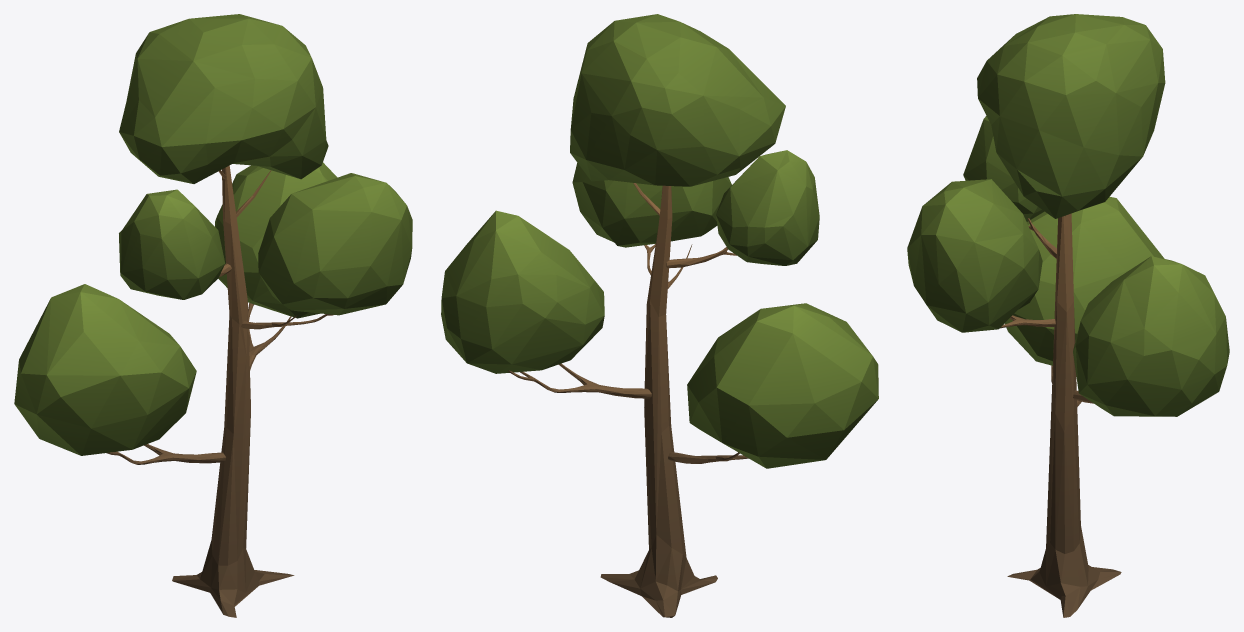
File: Summer_Tree_11.glb
3 renders of one model, left to right at view 1: azimuth 30°, elevation 25°; view 2: azimuth 150°, elevation 25°; view 3: azimuth 270°, elevation 25°, orthographic.
Visible parts, largest first — view 1: Summer_Tree_11_LOD0; view 2: Summer_Tree_11_LOD0; view 3: Summer_Tree_11_LOD0.
Boxes of the visible parts, bbox=[...] form: Summer_Tree_11_LOD0: bbox=[14, 14, 412, 617]; Summer_Tree_11_LOD0: bbox=[441, 14, 878, 617]; Summer_Tree_11_LOD0: bbox=[907, 14, 1229, 617].
Size of what is drawn, in the model's own units: 7.57 by 10.92 by 5.63.
Materials: 1 (1 with a texture image).
